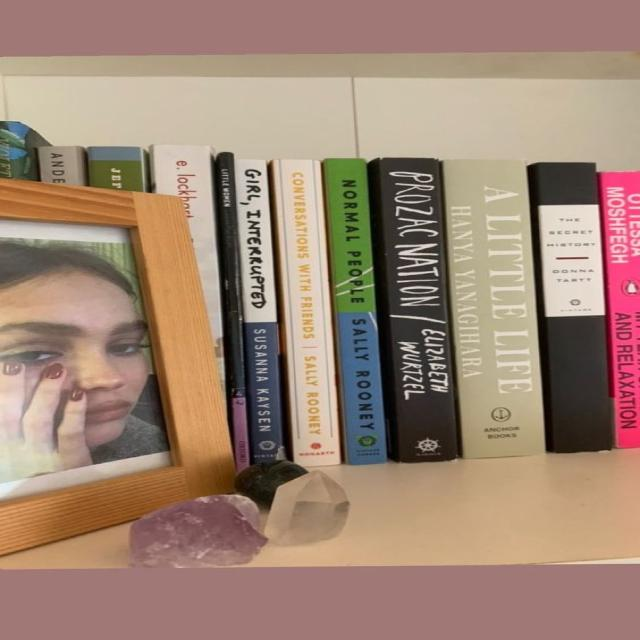book: (444, 158, 545, 458), (381, 157, 461, 462), (540, 162, 613, 452), (274, 159, 339, 466), (323, 159, 387, 466), (235, 161, 287, 461), (218, 152, 252, 467)
